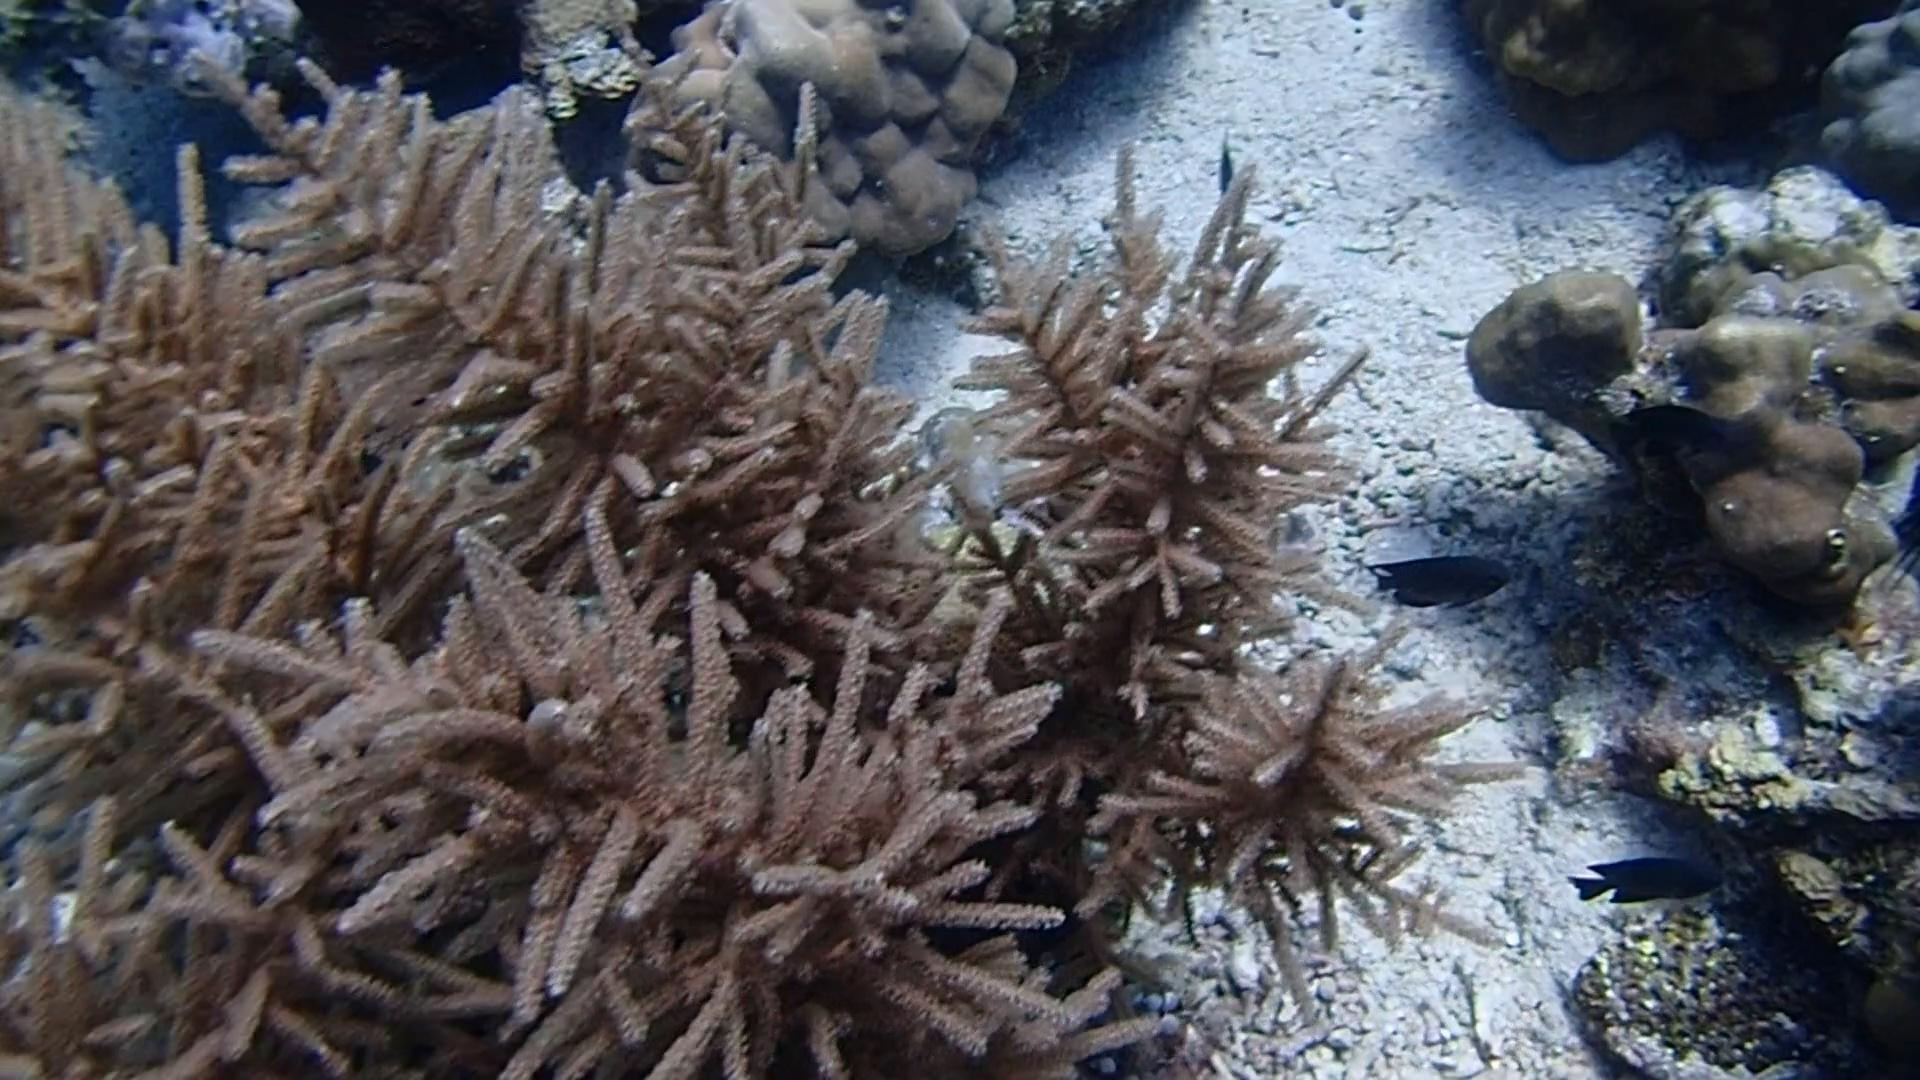Dark Fish: (1553, 841, 1726, 924), (1361, 546, 1511, 616), (1602, 393, 1731, 458)
Yellow Tail: (1204, 128, 1251, 207)
